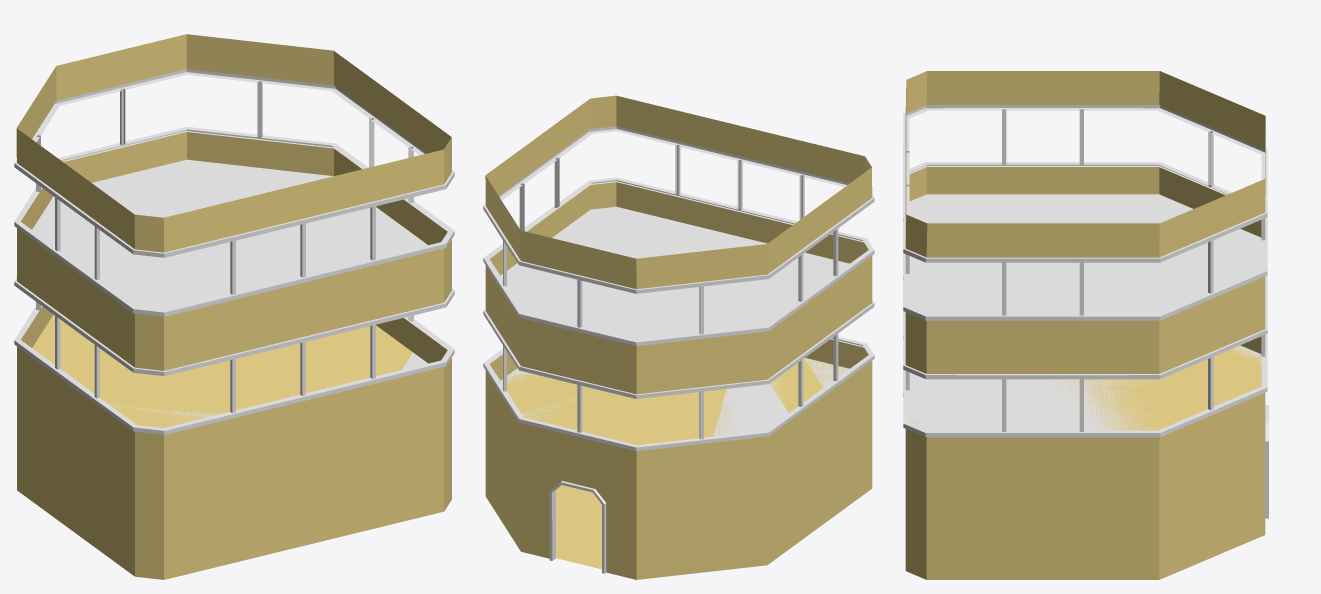
The model's file is Bld_C_high_L1_B.fbx.
3 views of the same model, side by side, from view 1: azimuth 30°, elevation 25°; view 2: azimuth 150°, elevation 25°; view 3: azimuth 270°, elevation 25° (orthographic). The views are drawn at different scales.
Visible parts, largest first — view 1: Bld_C_high_L1_B_LOD0; view 2: Bld_C_high_L1_B_LOD0; view 3: Bld_C_high_L1_B_LOD0.
Boxes of the visible parts, x1,y1,x2,y2 form: Bld_C_high_L1_B_LOD0: [14, 34, 454, 579]; Bld_C_high_L1_B_LOD0: [483, 95, 874, 579]; Bld_C_high_L1_B_LOD0: [903, 71, 1268, 579].
Size of what is drawn, in the model's own units: 1300 by 1948 by 1434.
Materials: 1 (1 with a texture image).
